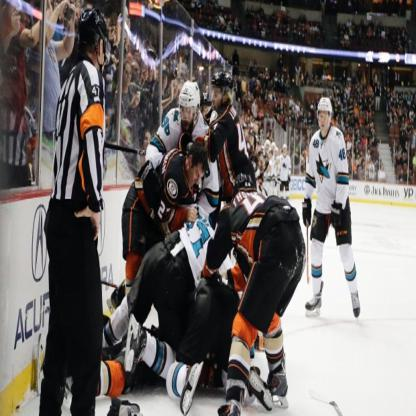face: (188, 162, 206, 186), (182, 98, 195, 131), (213, 83, 224, 112), (320, 107, 331, 131), (125, 64, 133, 85), (144, 133, 152, 151), (204, 100, 212, 116), (161, 71, 168, 89), (133, 63, 140, 81), (171, 79, 178, 97), (124, 126, 131, 142), (259, 159, 267, 172), (147, 68, 153, 81), (112, 54, 118, 63), (135, 52, 140, 62), (242, 81, 247, 91), (157, 71, 161, 82), (284, 146, 288, 156), (266, 144, 270, 152), (244, 129, 248, 137), (250, 136, 254, 144), (267, 129, 271, 137), (276, 149, 279, 159), (270, 152, 274, 159), (256, 126, 259, 134), (225, 93, 228, 101), (271, 132, 274, 140), (273, 146, 276, 153), (261, 153, 264, 160), (256, 100, 258, 105), (253, 119, 255, 124)
